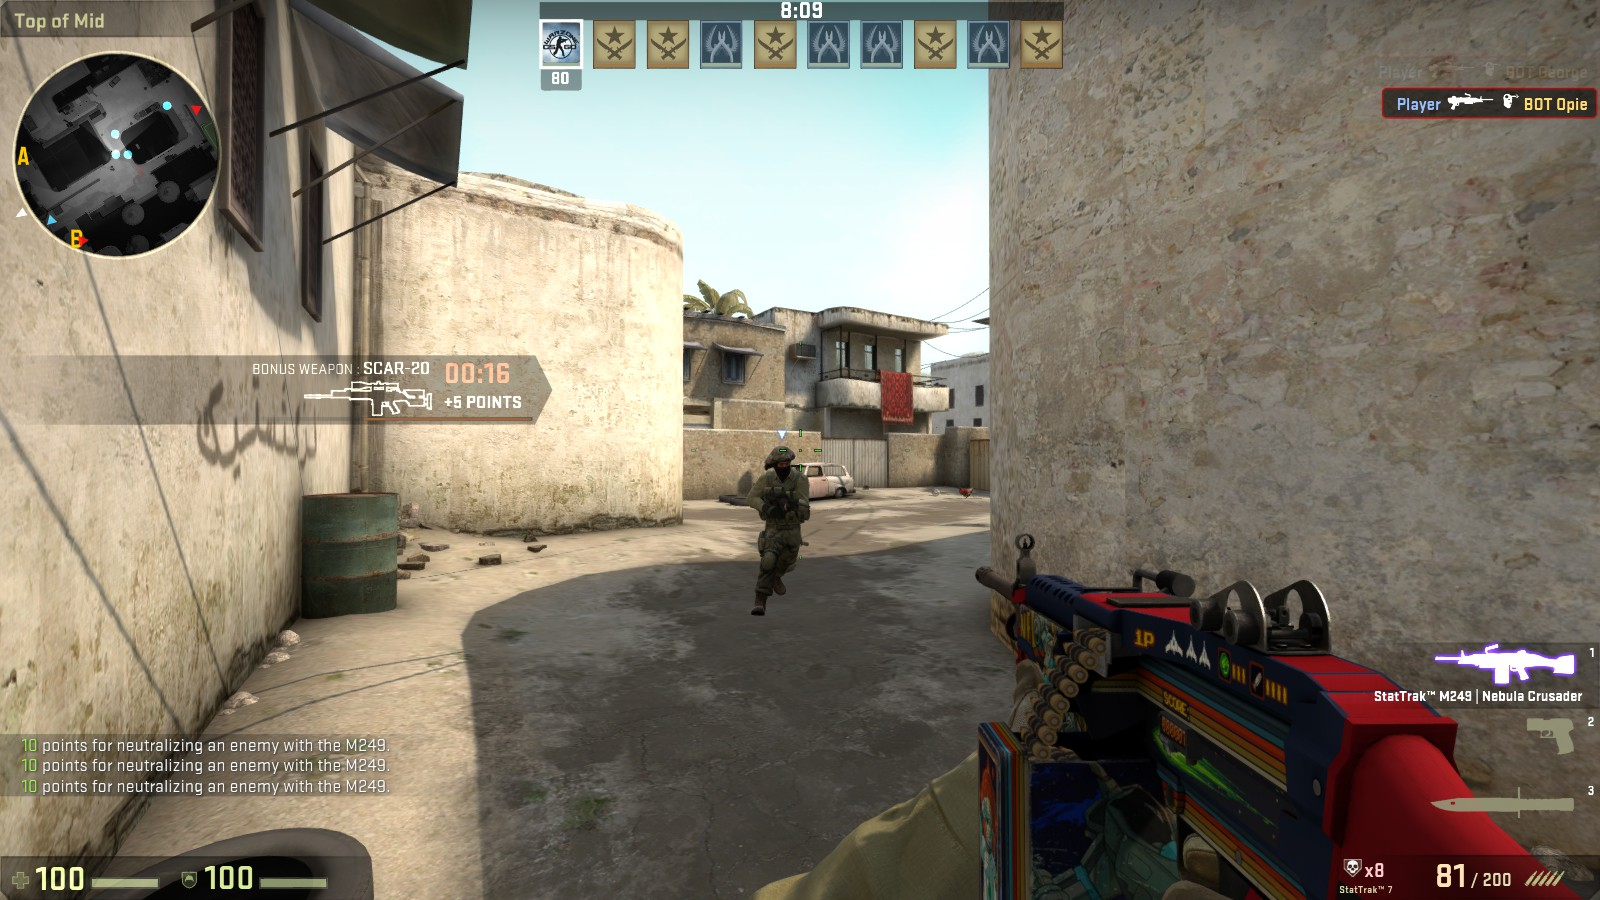c: (751, 444, 810, 618)
ch: (769, 449, 802, 479)
